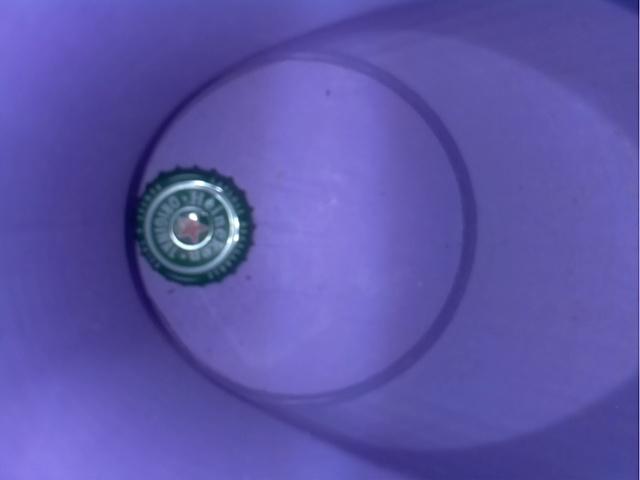capsule: (116, 145, 268, 297)
